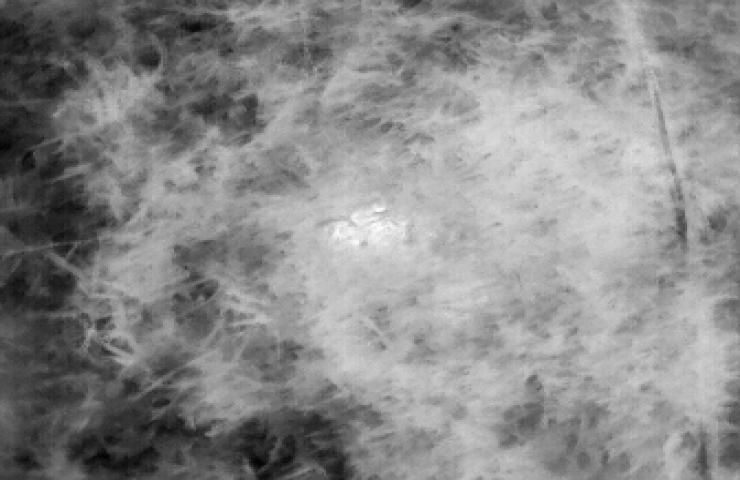landmines: (319, 199, 415, 262)
